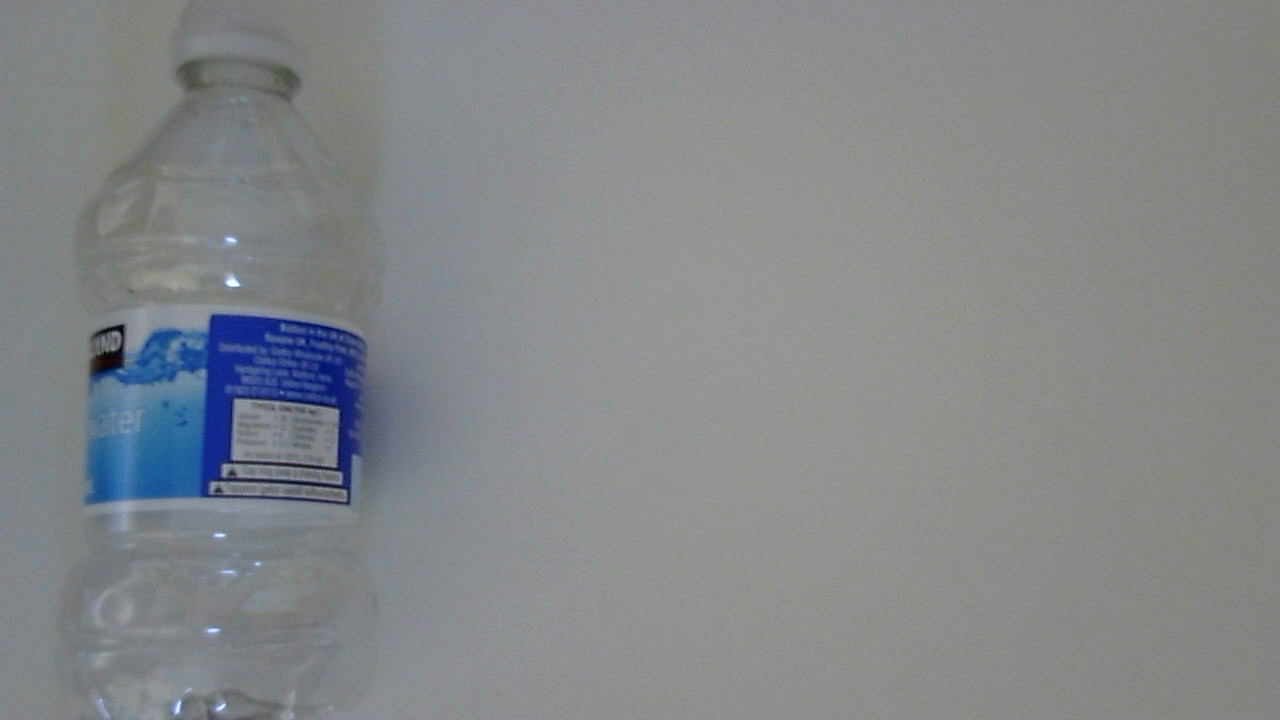Plastic Bottle: (57, 9, 402, 720)
